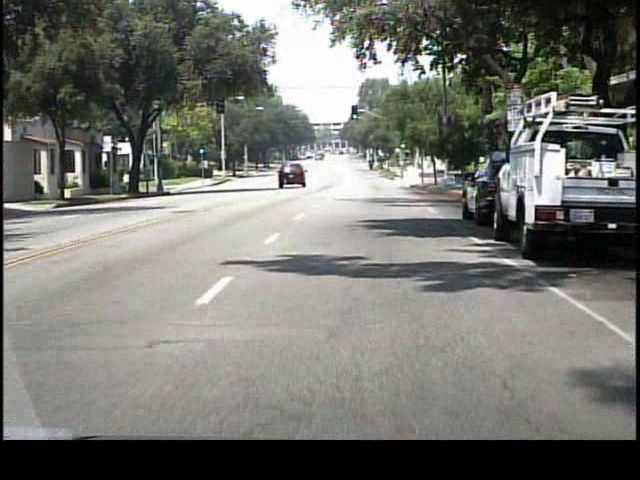person: (125, 170, 133, 195)
